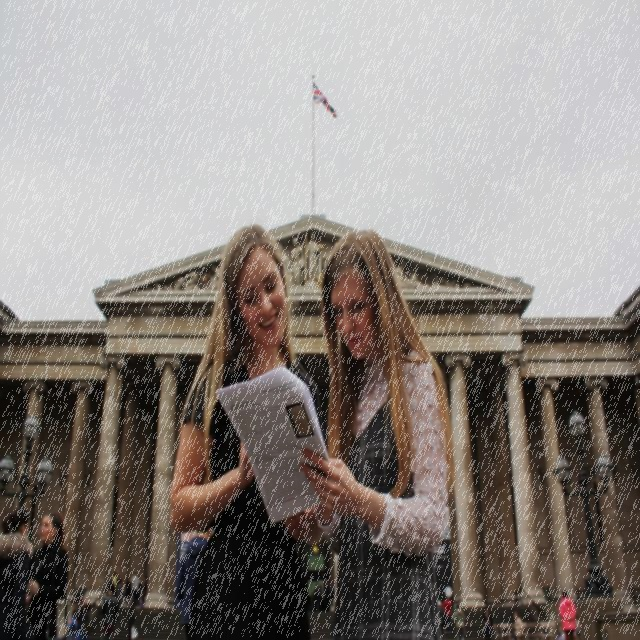pessoa: (169, 222, 326, 640), (306, 226, 456, 639), (154, 227, 477, 296), (24, 508, 67, 639), (0, 506, 36, 639), (175, 522, 212, 640), (66, 588, 95, 639), (97, 583, 120, 640), (558, 590, 578, 639), (452, 603, 467, 640), (129, 570, 140, 610), (481, 606, 494, 639), (511, 610, 525, 640), (437, 600, 447, 640), (442, 596, 452, 634), (115, 577, 124, 614), (122, 576, 132, 608), (140, 574, 148, 608), (128, 606, 136, 639), (302, 586, 310, 612), (330, 580, 336, 608), (107, 575, 115, 594), (556, 625, 566, 640), (313, 584, 318, 612), (138, 576, 142, 608), (324, 579, 330, 599), (111, 572, 117, 592), (317, 581, 323, 597), (116, 574, 122, 584)
